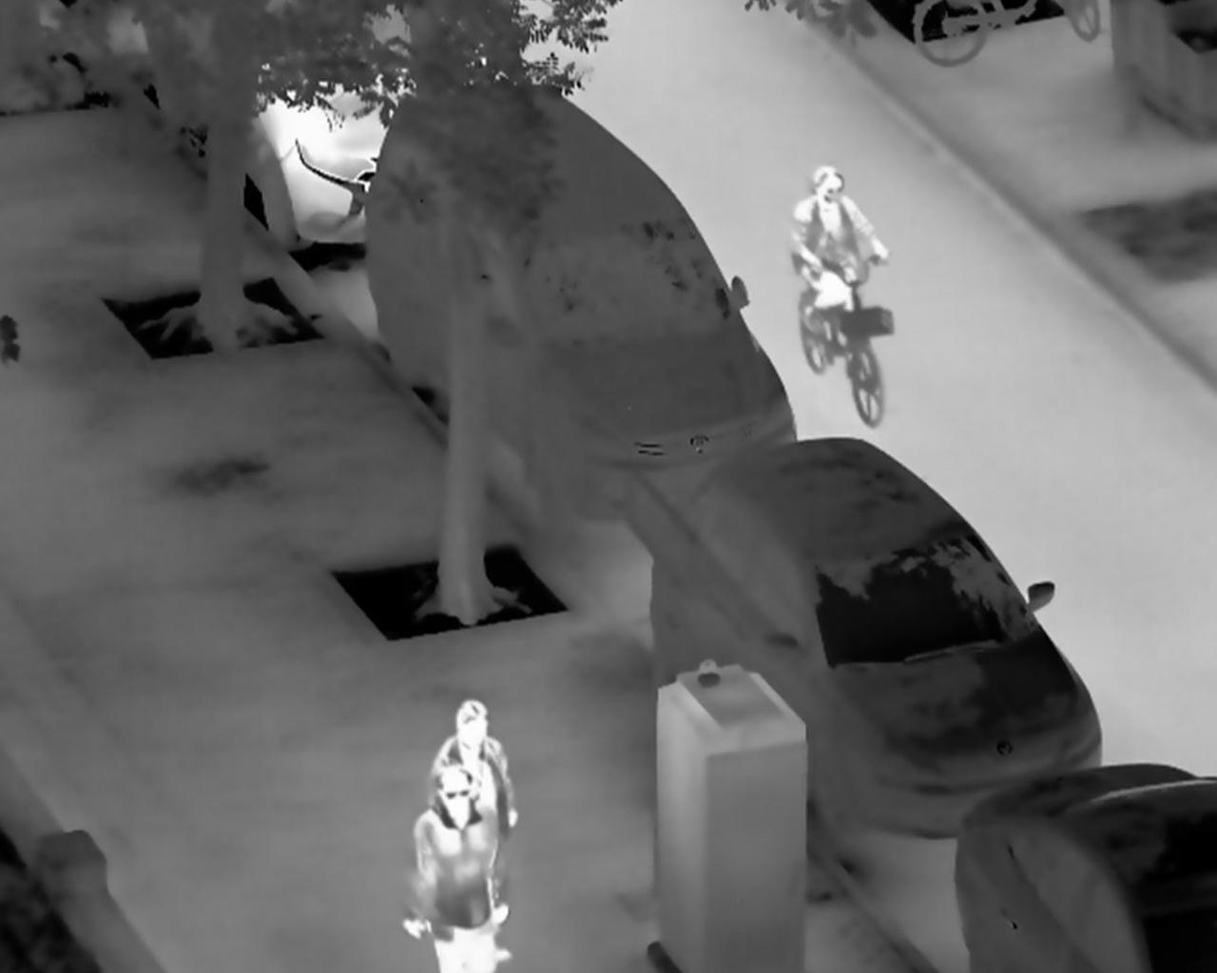person: (401, 765, 510, 973), (424, 696, 518, 926), (786, 165, 891, 336)
